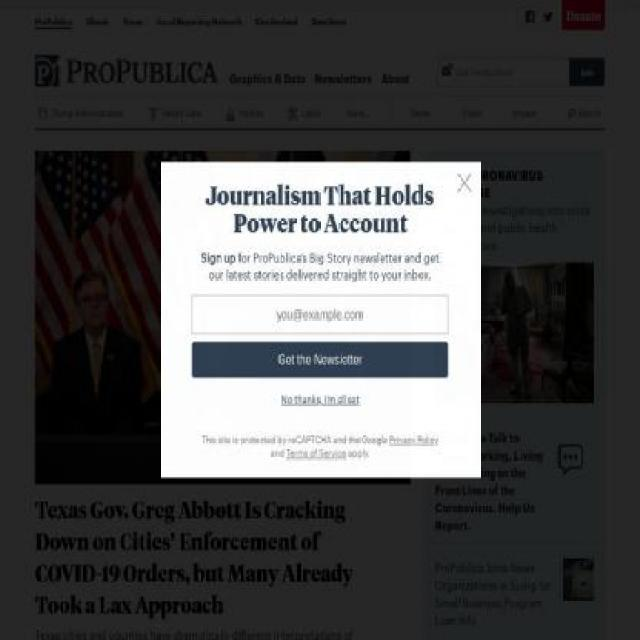button: (35, 150, 411, 484), (435, 262, 594, 403), (435, 428, 594, 534), (434, 558, 594, 639), (435, 164, 594, 202), (35, 55, 218, 87), (34, 95, 128, 130), (146, 95, 205, 130), (224, 68, 310, 87), (222, 95, 267, 130), (564, 95, 605, 130), (284, 95, 324, 130), (562, 0, 604, 31), (309, 68, 377, 87), (156, 14, 241, 28), (342, 95, 375, 130), (508, 95, 541, 130), (406, 95, 434, 130), (458, 95, 485, 130), (539, 0, 563, 31), (376, 68, 415, 87), (516, 0, 539, 31), (35, 13, 73, 30), (256, 14, 298, 28), (311, 14, 347, 28), (85, 14, 108, 28), (122, 14, 144, 28), (0, 0, 12, 15)
field: (452, 59, 571, 84), (569, 57, 605, 86)
